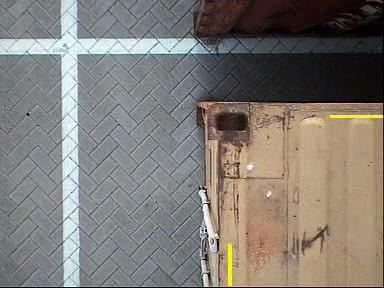groundmarker_2: (199, 168, 241, 213)
